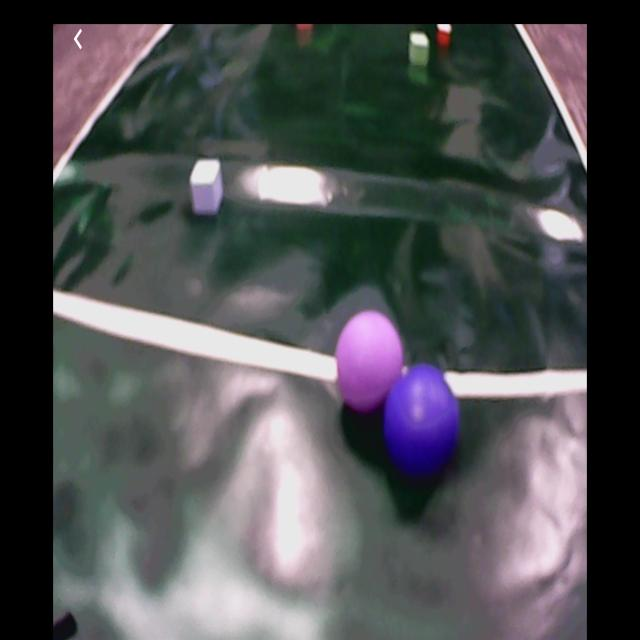ball: (384, 366, 460, 475), (338, 313, 404, 415)
